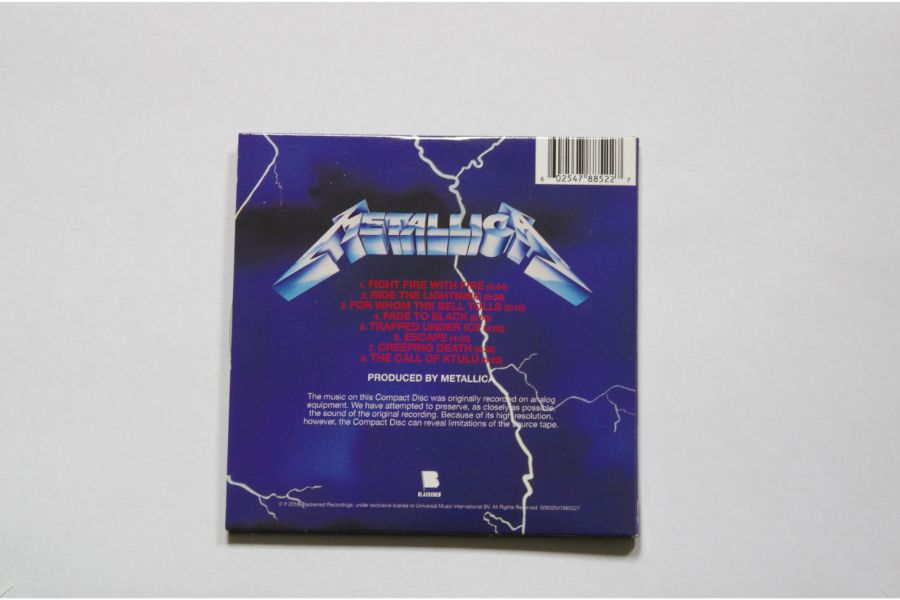album: (223, 131, 639, 539)
